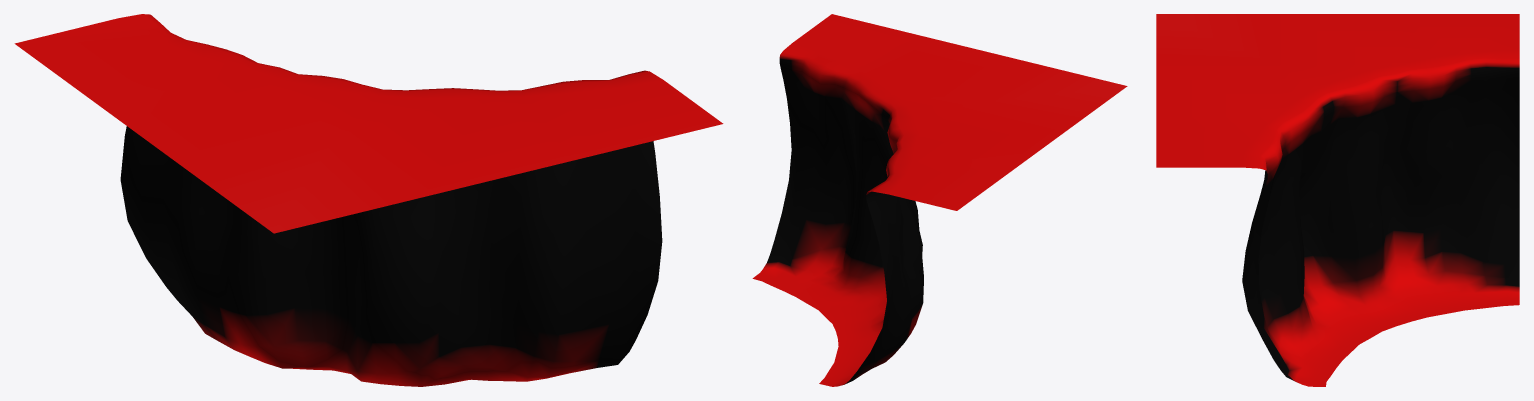
The model's file is GroundCliff04D 2M Background.fbx.
3 views of the same model, side by side, from view 1: azimuth 30°, elevation 25°; view 2: azimuth 150°, elevation 25°; view 3: azimuth 270°, elevation 25° (orthographic). The views are drawn at different scales.
Parts seen in each view (by area): view 1: GroundCliff04D 2M Background; view 2: GroundCliff04D 2M Background; view 3: GroundCliff04D 2M Background.
Part boxes in pixels (x1,y1,x2,y2): GroundCliff04D 2M Background: [14, 14, 723, 386]; GroundCliff04D 2M Background: [752, 14, 1127, 386]; GroundCliff04D 2M Background: [1156, 14, 1519, 386].
Bounding box in the file's own units: 3 × 2 × 3.
